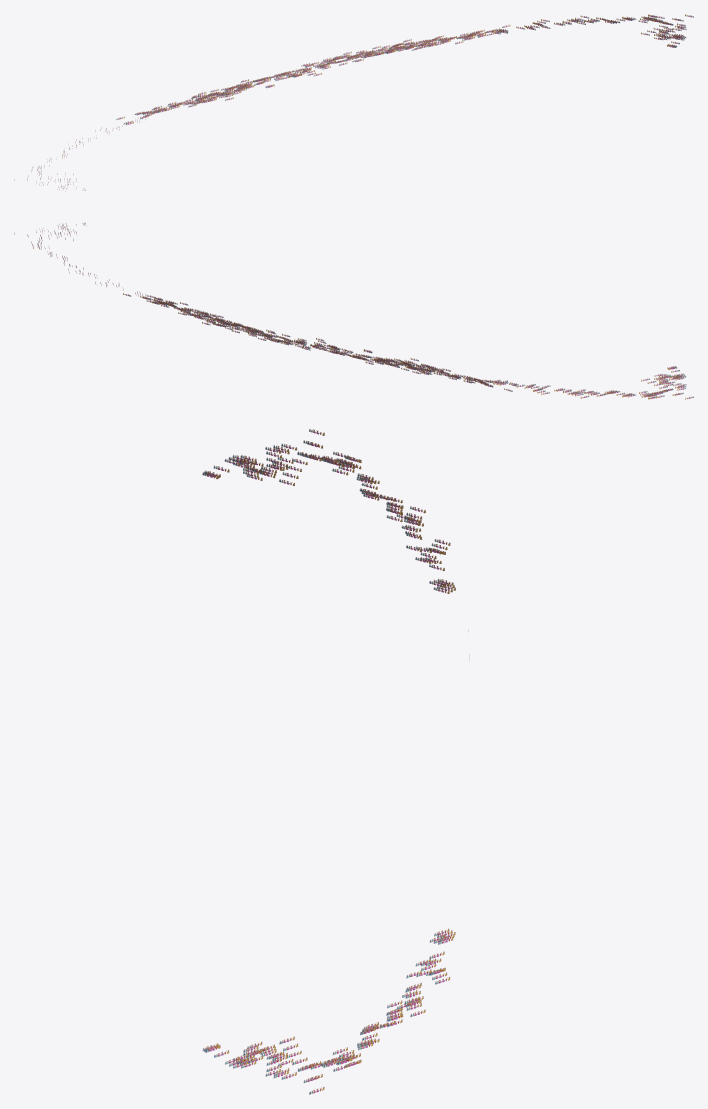
File: Public.glb
The picture shows the model from 3 angles, top to bottom: view 1: azimuth 30°, elevation 25°; view 2: azimuth 150°, elevation 25°; view 3: azimuth 270°, elevation 25°; orthographic projection. The views are drawn at different scales.
Bounding box in the file's own units: 838 × 2.59 × 162.
6 materials, 6 textured.
